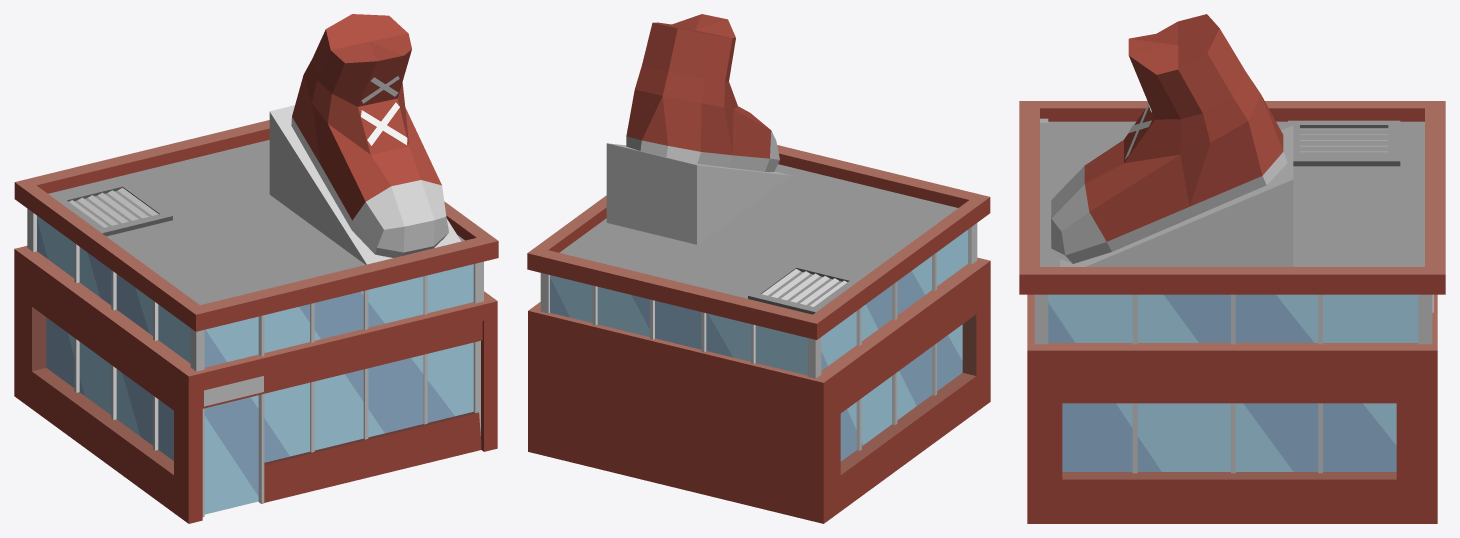
Rendered from services_store_006.fbx.
3 views of the same model, side by side, from view 1: azimuth 30°, elevation 25°; view 2: azimuth 150°, elevation 25°; view 3: azimuth 270°, elevation 25° (orthographic). The views are drawn at different scales.
Parts seen in each view (by area): view 1: services_store_006; view 2: services_store_006; view 3: services_store_006.
Part boxes in pixels (x1,y1,x2,y2): services_store_006: (14,14,498,523); services_store_006: (527,14,990,523); services_store_006: (1019,14,1445,523).
Size of the model in its own units: 593 by 720 by 603.
